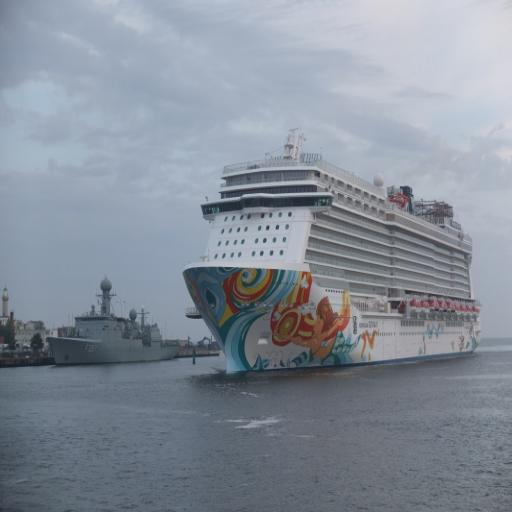cruises: (177, 134, 484, 376)
